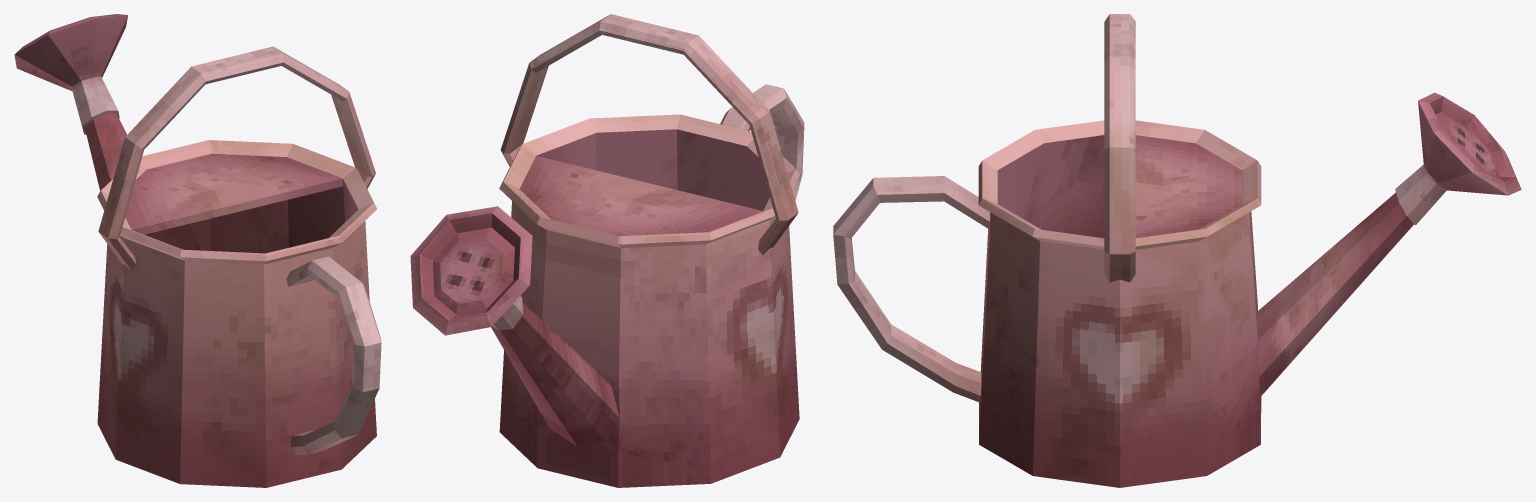
The model's file is watering_can.glb.
The picture shows the model from 3 angles, left to right: view 1: azimuth 30°, elevation 25°; view 2: azimuth 150°, elevation 25°; view 3: azimuth 270°, elevation 25°; orthographic projection. The views are drawn at different scales.
Parts seen in each view (by area): view 1: WateringCan; view 2: WateringCan; view 3: WateringCan.
Boxes of the visible parts, x1=… form: WateringCan: x1=14, y1=14, x2=381, y2=487; WateringCan: x1=410, y1=14, x2=804, y2=487; WateringCan: x1=833, y1=14, x2=1521, y2=487.
Size of the model in its own units: 0.0254 by 0.0334 by 0.0535.
1 material, 1 textured.
